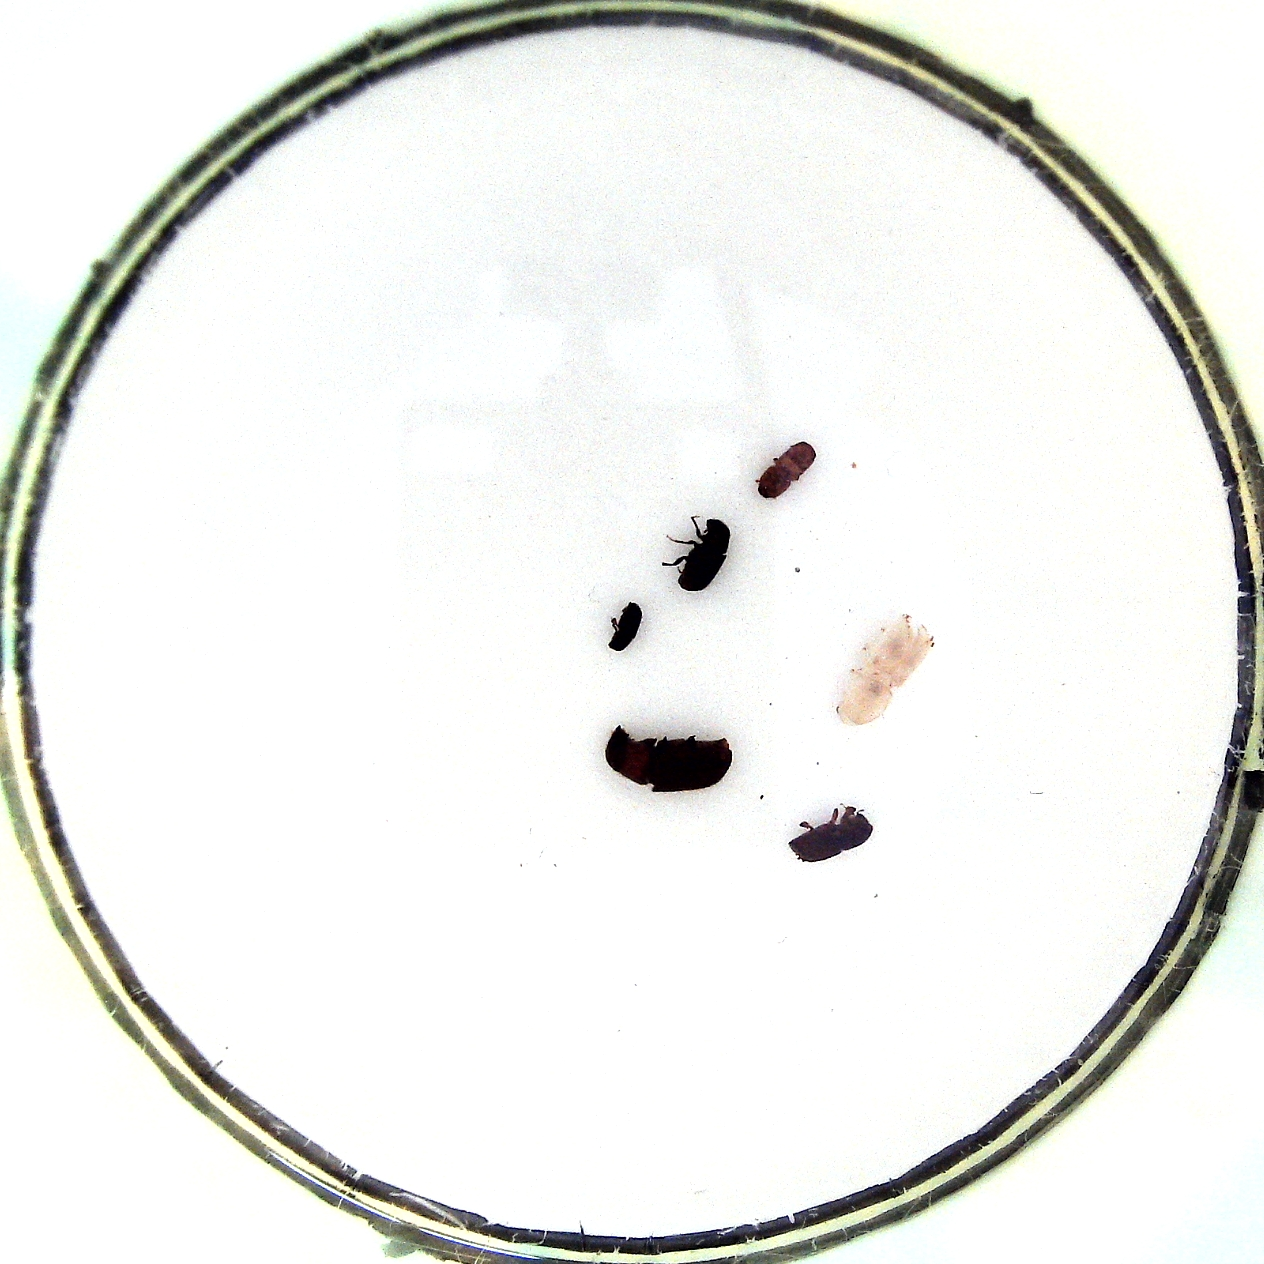Boerner: (832, 612, 940, 734)
Leconte: (601, 723, 734, 799)
Linnaeus: (781, 804, 876, 868)
acuminatus: (749, 438, 816, 501)
armandi: (666, 512, 734, 596)
coleoptera: (607, 594, 645, 660)
